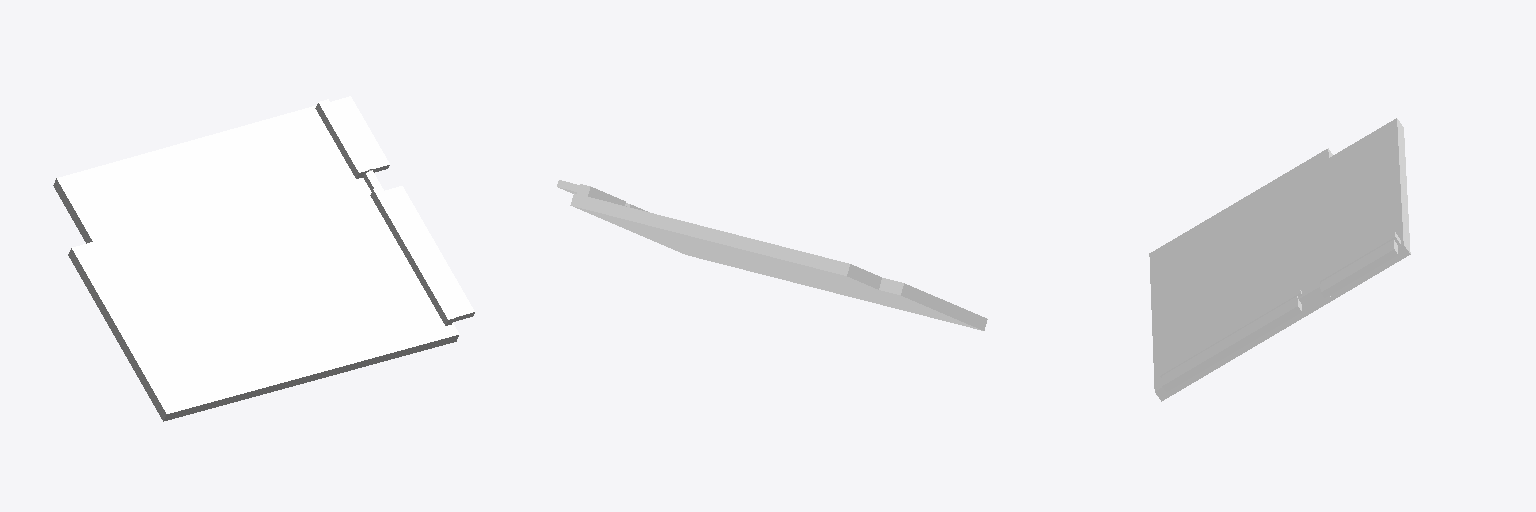
Rendered from Roof.obj.
3 renders of one model, left to right at view 1: azimuth 30°, elevation 25°; view 2: azimuth 150°, elevation 25°; view 3: azimuth 270°, elevation 25°, orthographic.
Size of the model in its own units: 20.45 by 10.09 by 14.43.